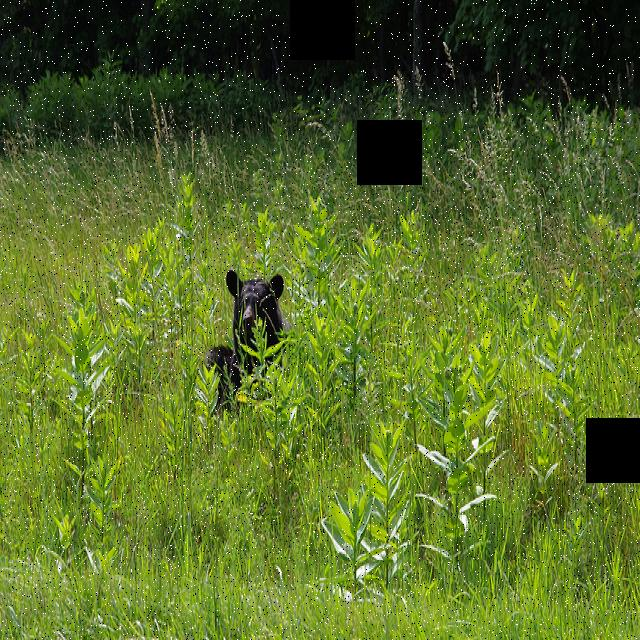Bear: (208, 262, 290, 429)
